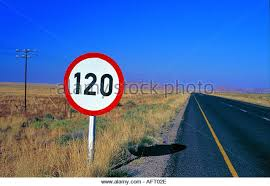Speed_limit_120km: (62, 52, 125, 116)
